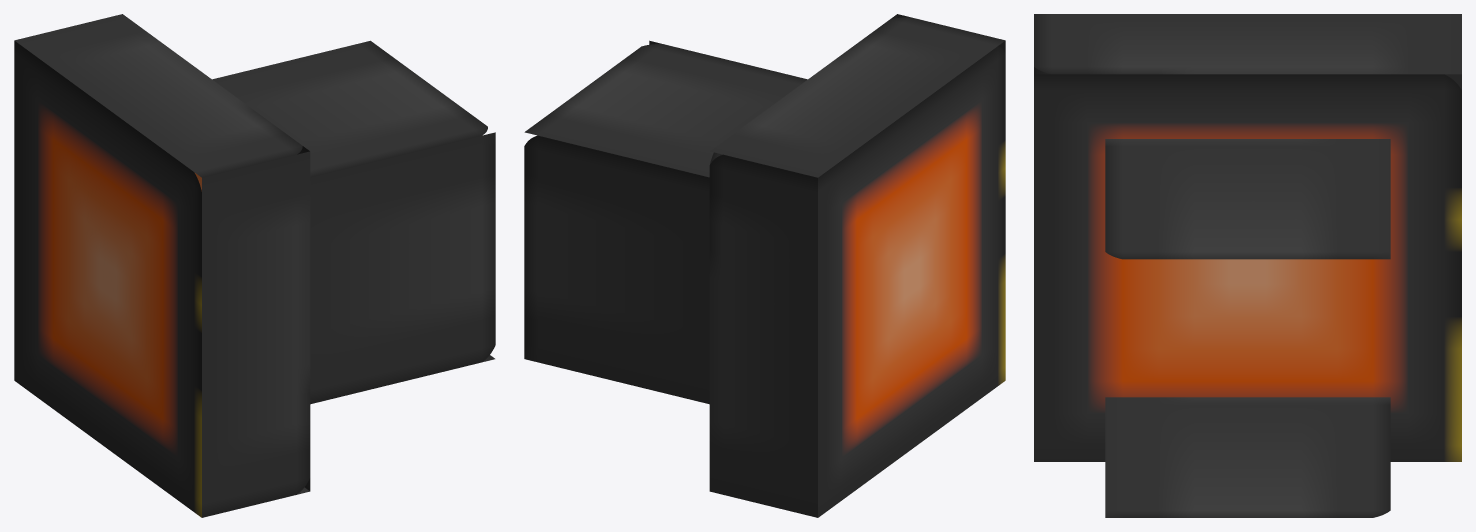
The model's file is rtg_connector.obj.
3 views of the same model, side by side, from view 1: azimuth 30°, elevation 25°; view 2: azimuth 150°, elevation 25°; view 3: azimuth 270°, elevation 25° (orthographic). The views are drawn at different scales.
Parts seen in each view (by area): view 1: Connector; view 2: Connector; view 3: Connector.
Boxes of the visible parts, x1,y1,x2,y2 form: Connector: [14, 14, 495, 517]; Connector: [524, 14, 1005, 517]; Connector: [1034, 14, 1461, 517].
Bounding box in the file's own units: 0.375 × 0.375 × 0.375.
